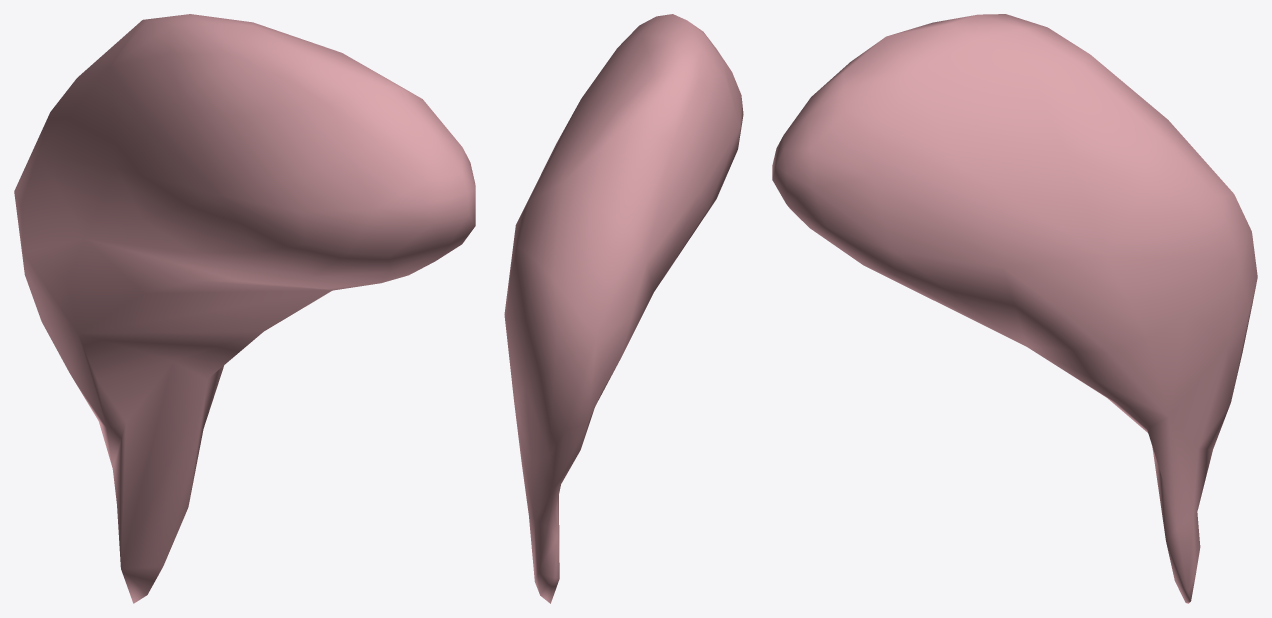
File: visceras-epididymis-r.glb
3 views of the same model, side by side, from view 1: azimuth 30°, elevation 25°; view 2: azimuth 150°, elevation 25°; view 3: azimuth 270°, elevation 25° (orthographic). The views are drawn at different scales.
Visible parts, largest first — view 1: Epididymis.r; view 2: Epididymis.r; view 3: Epididymis.r.
Part boxes in pixels (left/top/right/bottom): Epididymis.r: left=14, top=14, right=475, bottom=603; Epididymis.r: left=504, top=14, right=743, bottom=603; Epididymis.r: left=772, top=14, right=1257, bottom=603.
Bounding box in the file's own units: 0.00892 × 0.0247 × 0.0191.
